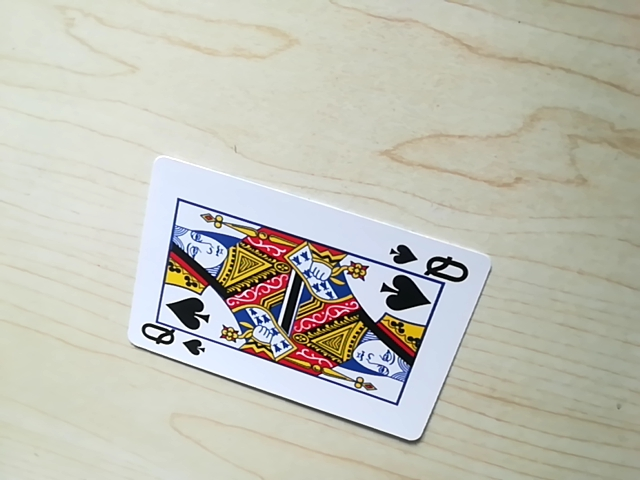ht q: (387, 242, 472, 282), (134, 321, 208, 359)
